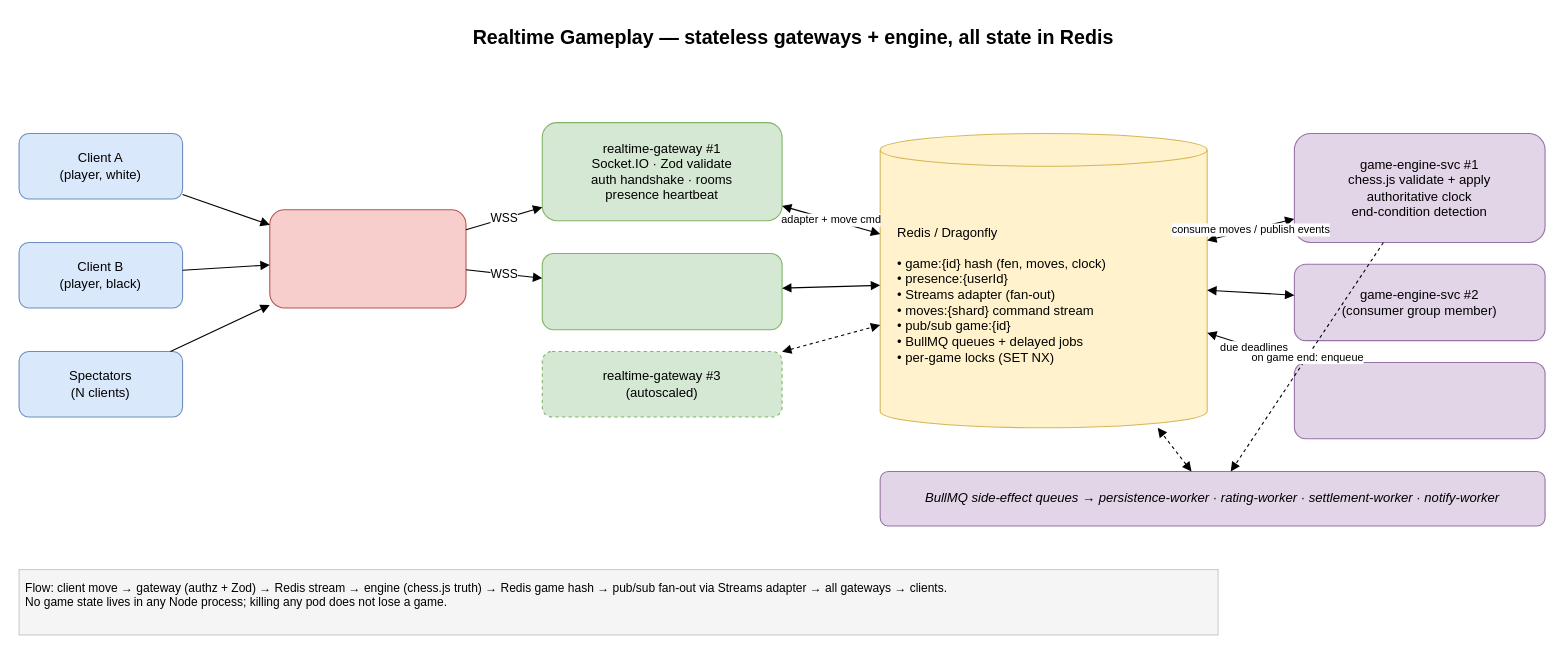
This 1564x654 diagram has some shape labels left out. The box of each missing label's shape, as (x1, y1, x2, y2) in pixels:
Load Balancer TLS · STICKY WebSocket (cookie / ip-hash): (269, 209, 466, 308)
realtime-gateway #2 (identical, stateless): (541, 252, 782, 330)
scheduler clock-timeout · abort · grace (BullMQ delayed jobs): (1293, 361, 1545, 439)
